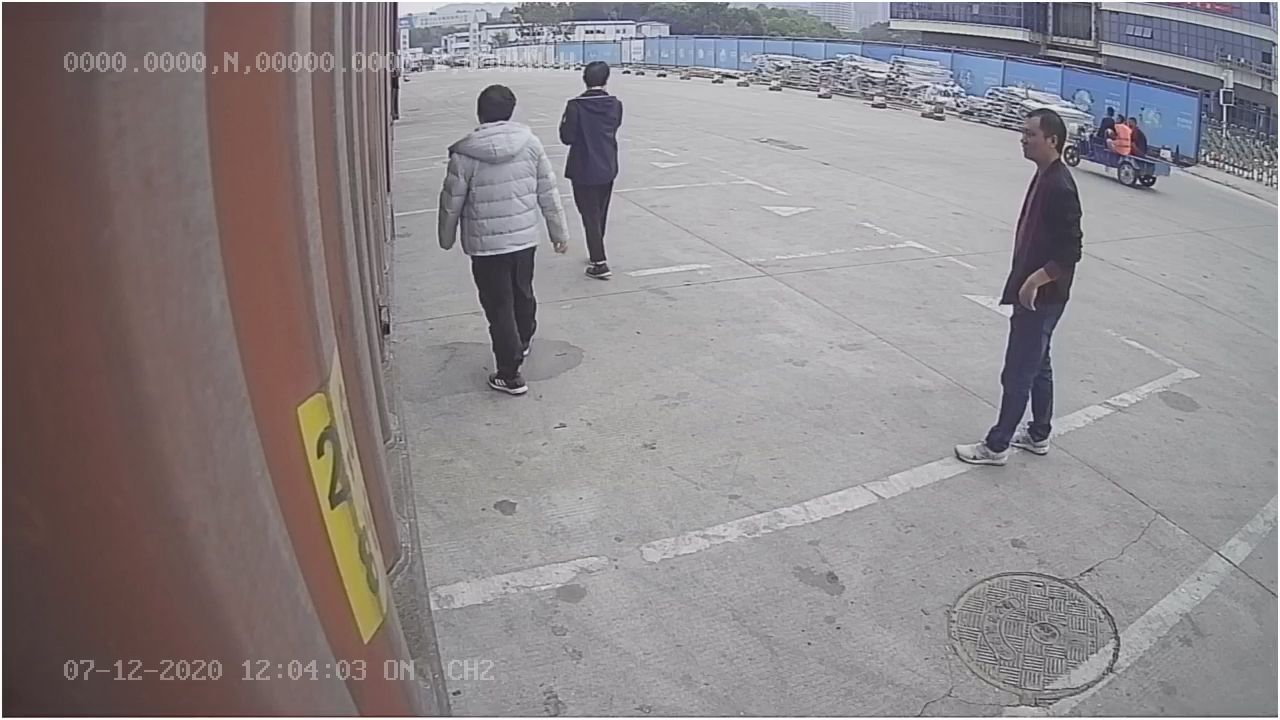person: (950, 106, 1089, 467), (438, 82, 569, 398)
